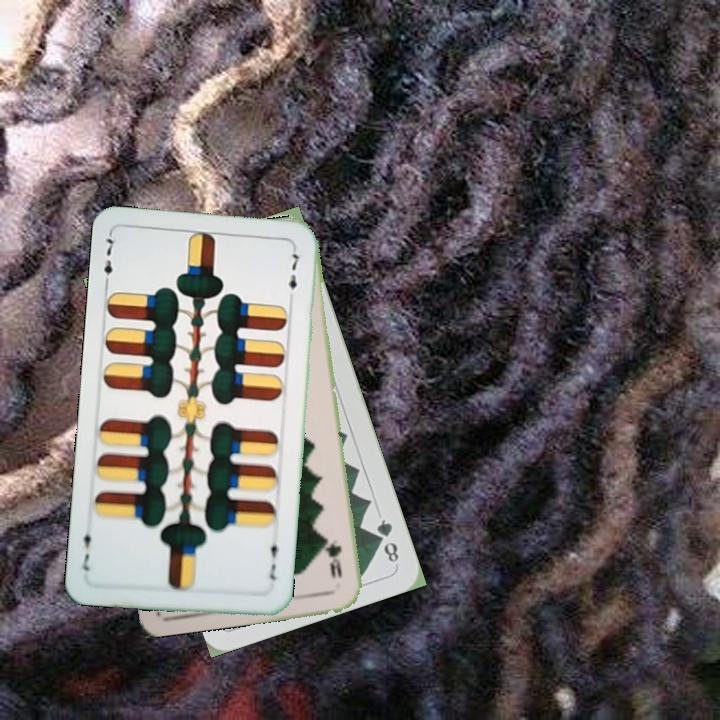E7: (100, 230, 119, 289), (265, 534, 281, 583)
G8: (372, 514, 402, 566)
G9: (322, 534, 345, 582)
